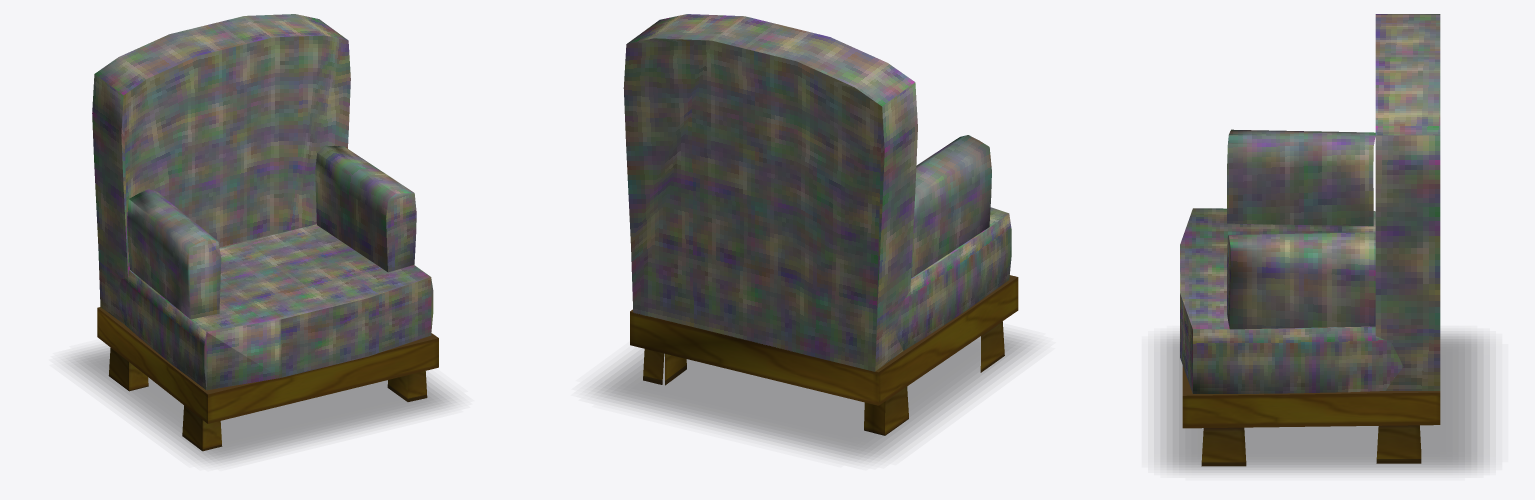
The model's file is couch_1person.glb.
3 renders of one model, left to right at view 1: azimuth 30°, elevation 25°; view 2: azimuth 150°, elevation 25°; view 3: azimuth 270°, elevation 25°, orthographic. The views are drawn at different scales.
Visible parts, largest first — view 1: random_to1_TI_couch, frame_base, drop_shadow; view 2: random_to1_TI_couch, drop_shadow, frame_base; view 3: random_to1_TI_couch, drop_shadow, frame_base.
Boxes of the visible parts, <box> form: random_to1_TI_couch: <box>92,14,433,390</box>; frame_base: <box>97,307,438,451</box>; drop_shadow: <box>67,346,454,463</box>; random_to1_TI_couch: <box>623,14,1011,371</box>; drop_shadow: <box>592,332,1033,460</box>; frame_base: <box>630,275,1018,435</box>; random_to1_TI_couch: <box>1180,14,1440,393</box>; drop_shadow: <box>1160,333,1489,472</box>; frame_base: <box>1182,366,1440,466</box>.
Size of the model in its own units: 4 by 3.94 by 4.
Materials: 3 (3 with a texture image).
